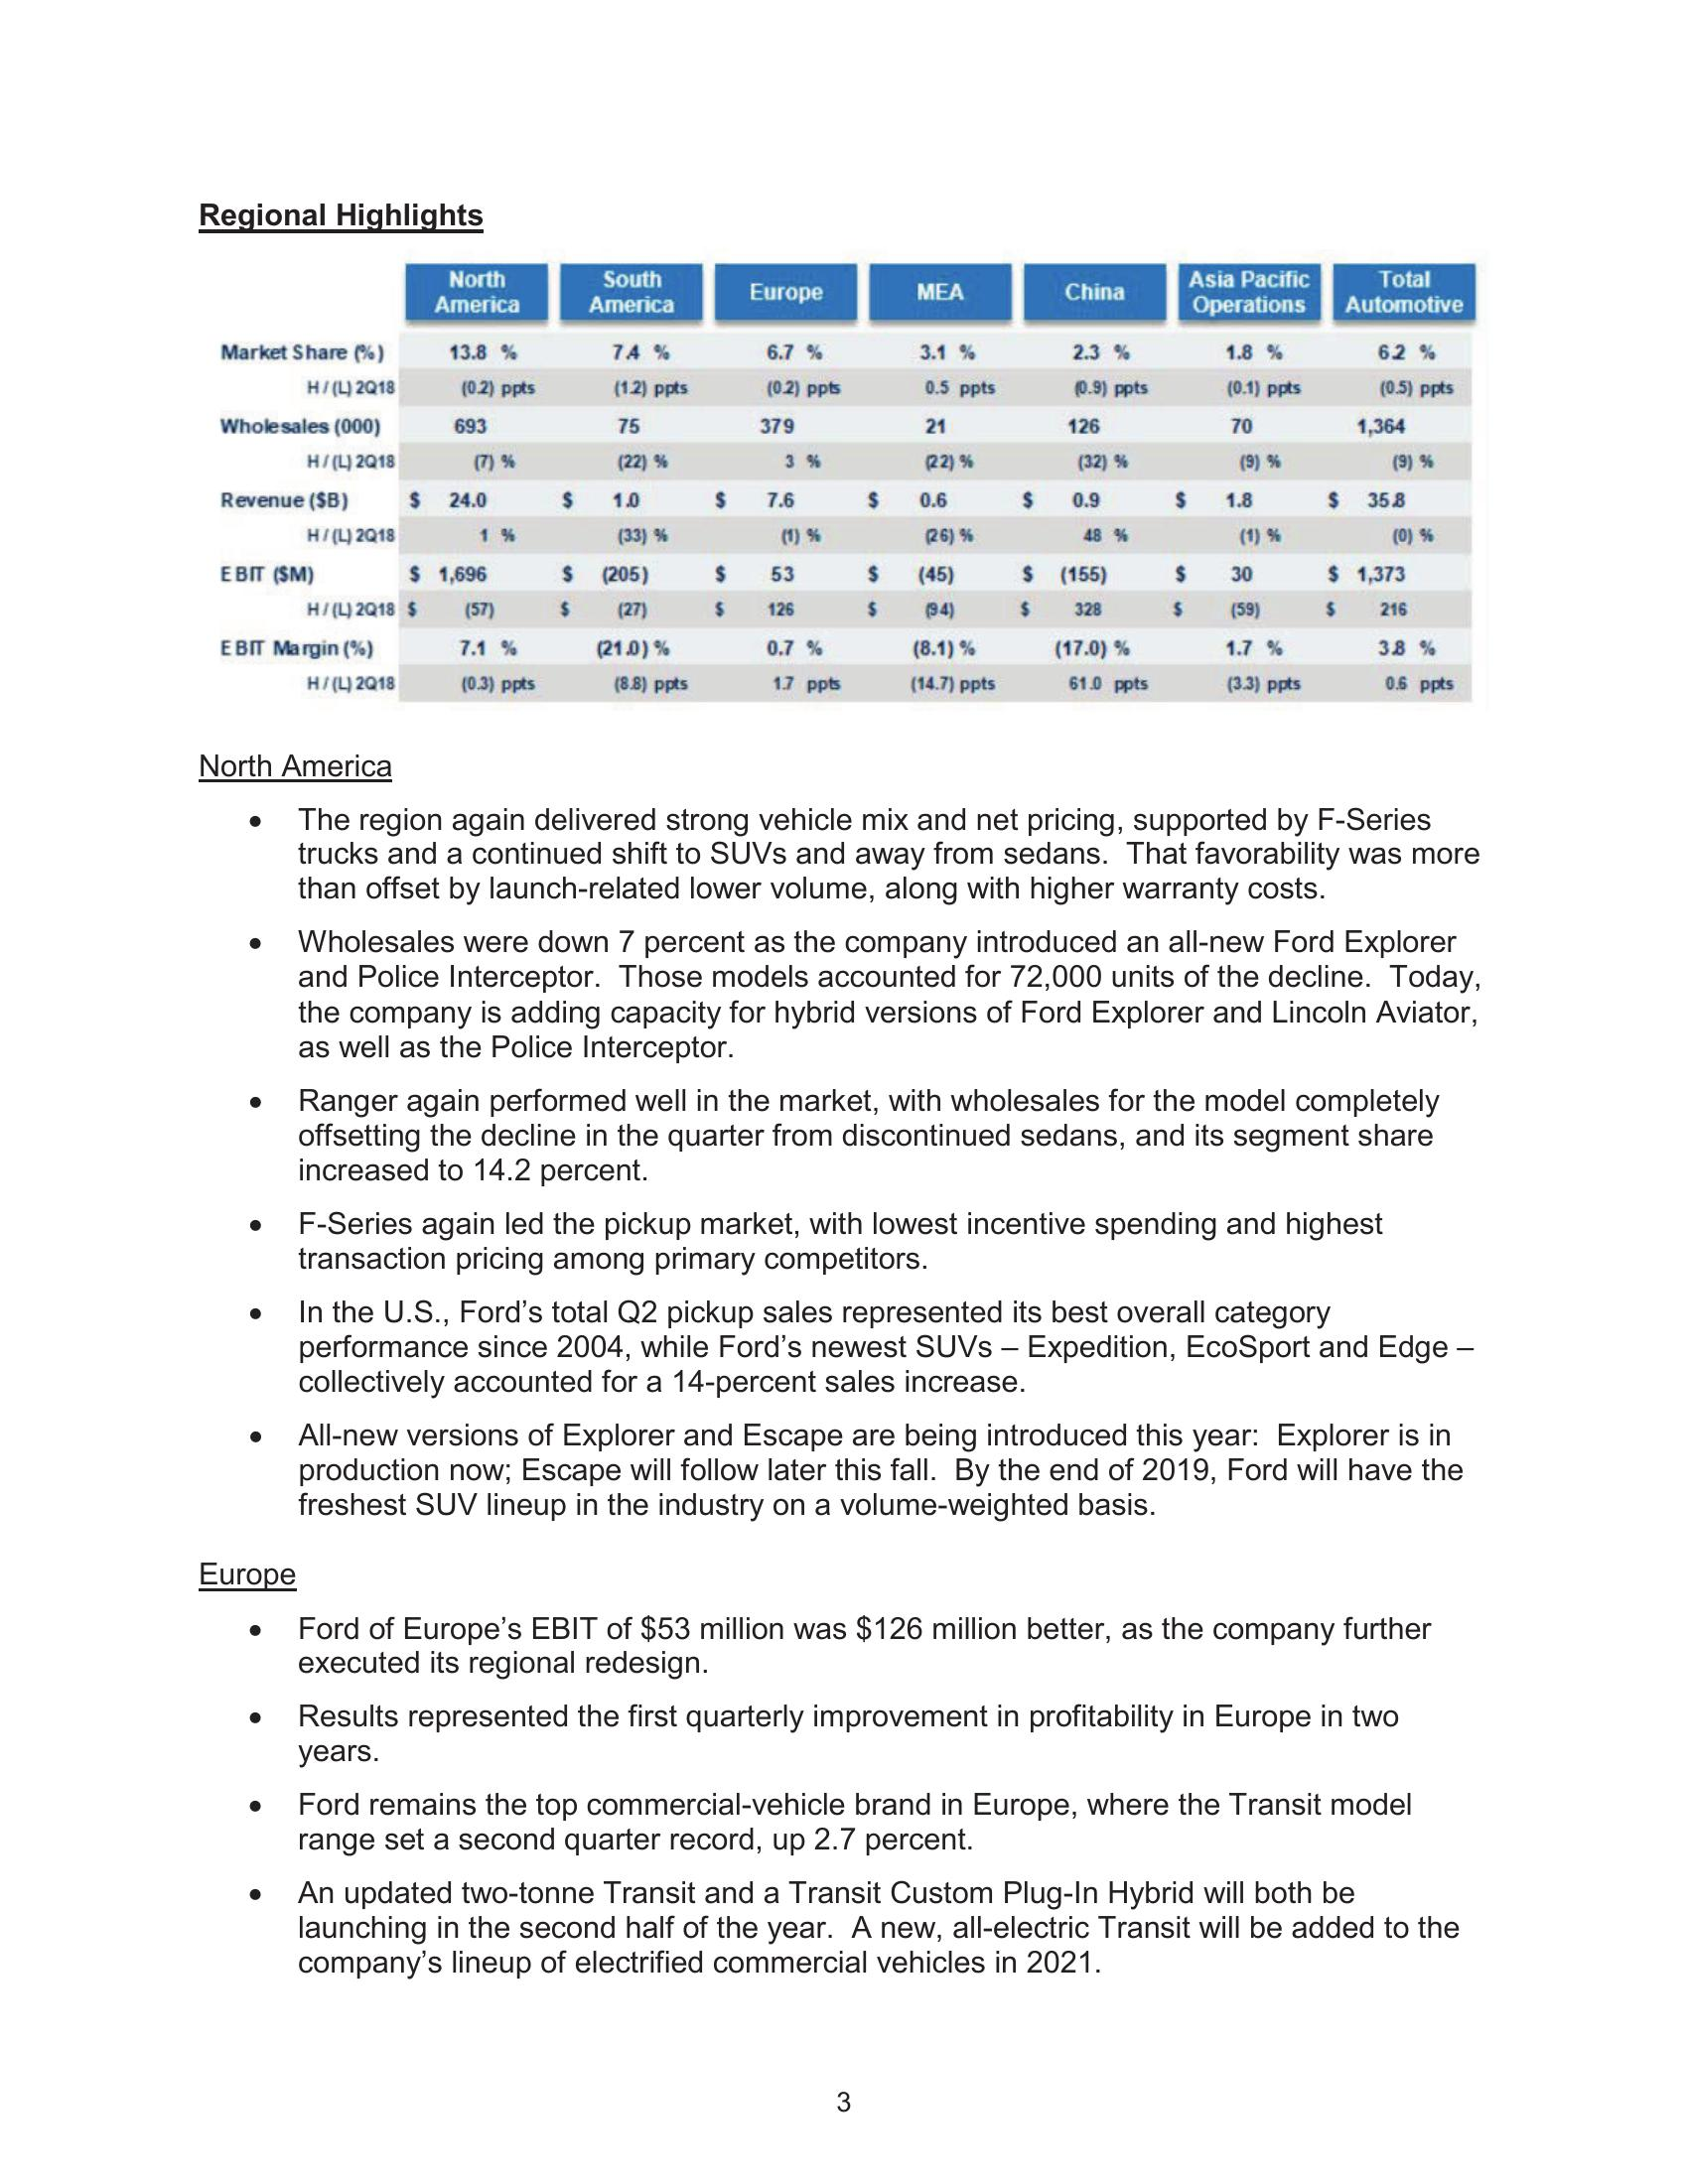table: (213, 253, 1479, 706)
